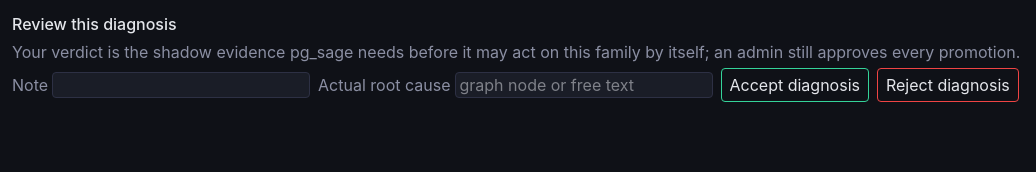
InvestigationReview › accepts a diagnosis for the investigation database
Click the button "Accept diagnosis": click(795, 85) [720, 68, 869, 102]
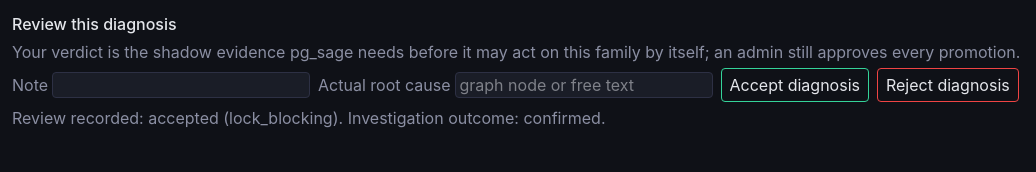
Result: the text with test id "investigation-review-status" shows "accepted" at [148, 108, 219, 128]
Result: the text with test id "investigation-review-status" shows "lock_blocking" at [219, 108, 338, 128]
Result: the text with test id "investigation-review-status" shows "confirmed" at [343, 108, 606, 128]
